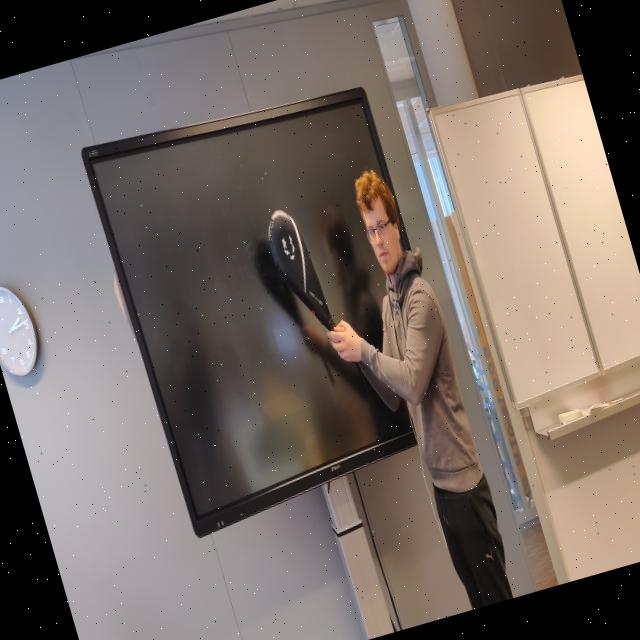paddle: (267, 208, 336, 331)
